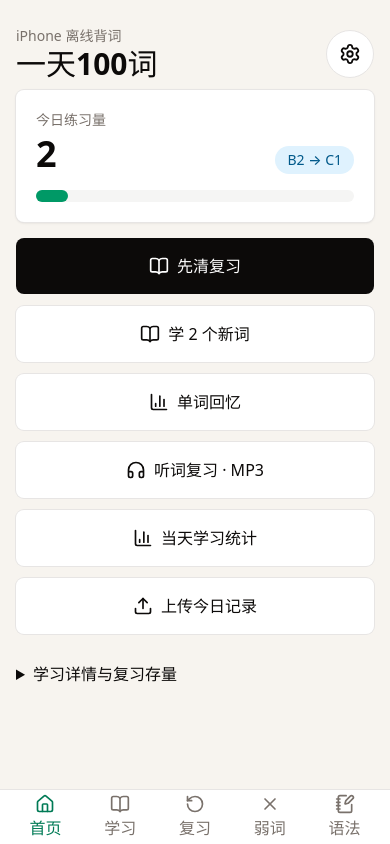
Test case: actual session navigation › shows a missing-backend error without claiming upload success or losing local progress
Click the button "上传今日记录".
click(195, 606)  # box [16,578,374,634]
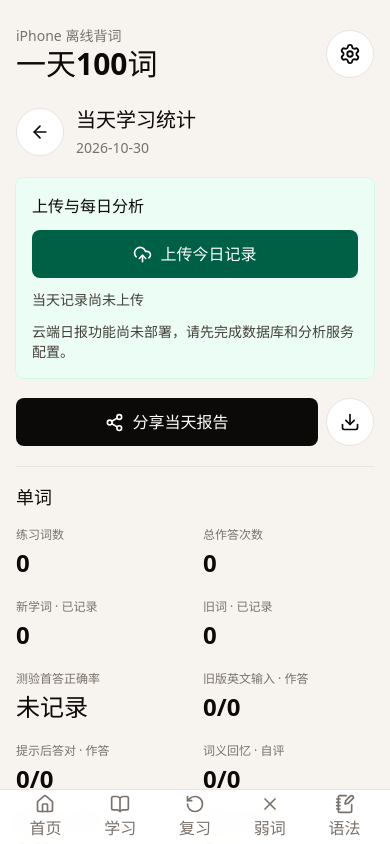
Check: the text "云端日报功能尚未部署" is shown, box [32,322,354,361]
